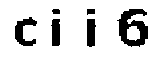6: (115, 5, 151, 50)
c: (12, 17, 38, 48)
i: (80, 7, 104, 52), (49, 4, 65, 47)
